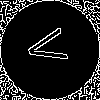V: (25, 25, 78, 68)
